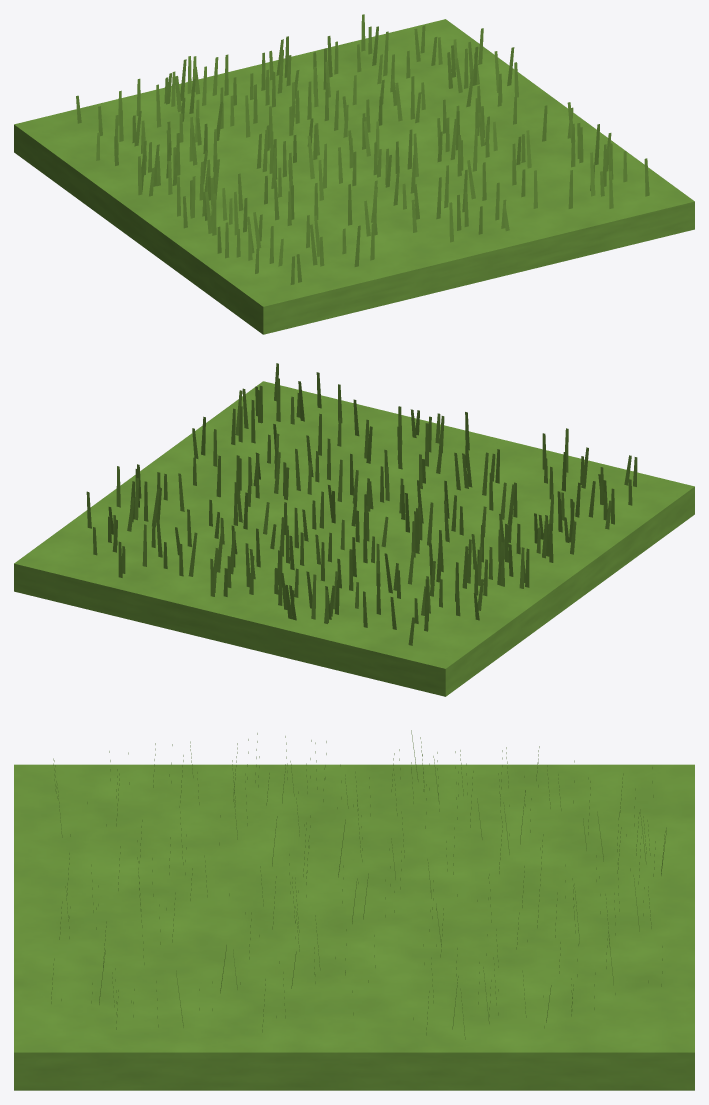
Rendered from pv_psenice_mlada.glb.
The picture shows the model from 3 angles, top to bottom: view 1: azimuth 30°, elevation 25°; view 2: azimuth 150°, elevation 25°; view 3: azimuth 270°, elevation 25°; orthographic projection. The views are drawn at different scales.
Parts seen in each view (by area): view 1: dum; view 2: dum; view 3: dum.
Boxes of the visible parts, x1=… form: dum: x1=14, y1=14, x2=694, y2=334; dum: x1=14, y1=363, x2=694, y2=696; dum: x1=14, y1=730, x2=694, y2=1090.
Size of the model in its own units: 6.33 by 1 by 6.33.
Materials: 1 (1 with a texture image).
